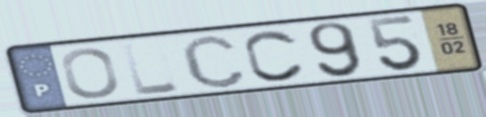5: (364, 13, 425, 73)
9: (304, 20, 363, 79)
C: (177, 32, 250, 90), (242, 28, 309, 83)
L: (119, 39, 184, 98)
O: (58, 46, 122, 101)
